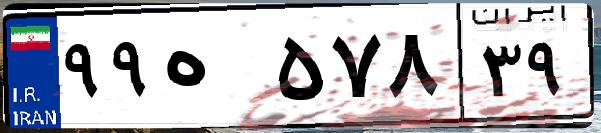3: (475, 38, 525, 113)
5: (270, 28, 330, 110)
7: (330, 28, 385, 110)
8: (385, 28, 445, 110)
9: (57, 26, 110, 100), (525, 38, 570, 115), (110, 28, 158, 98)
ه: (158, 20, 270, 120)
